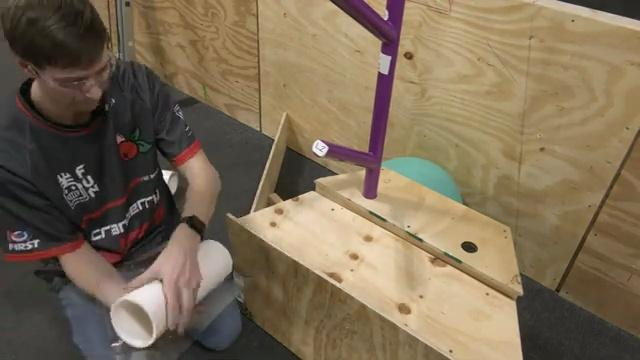CORAL: (108, 237, 234, 348)
